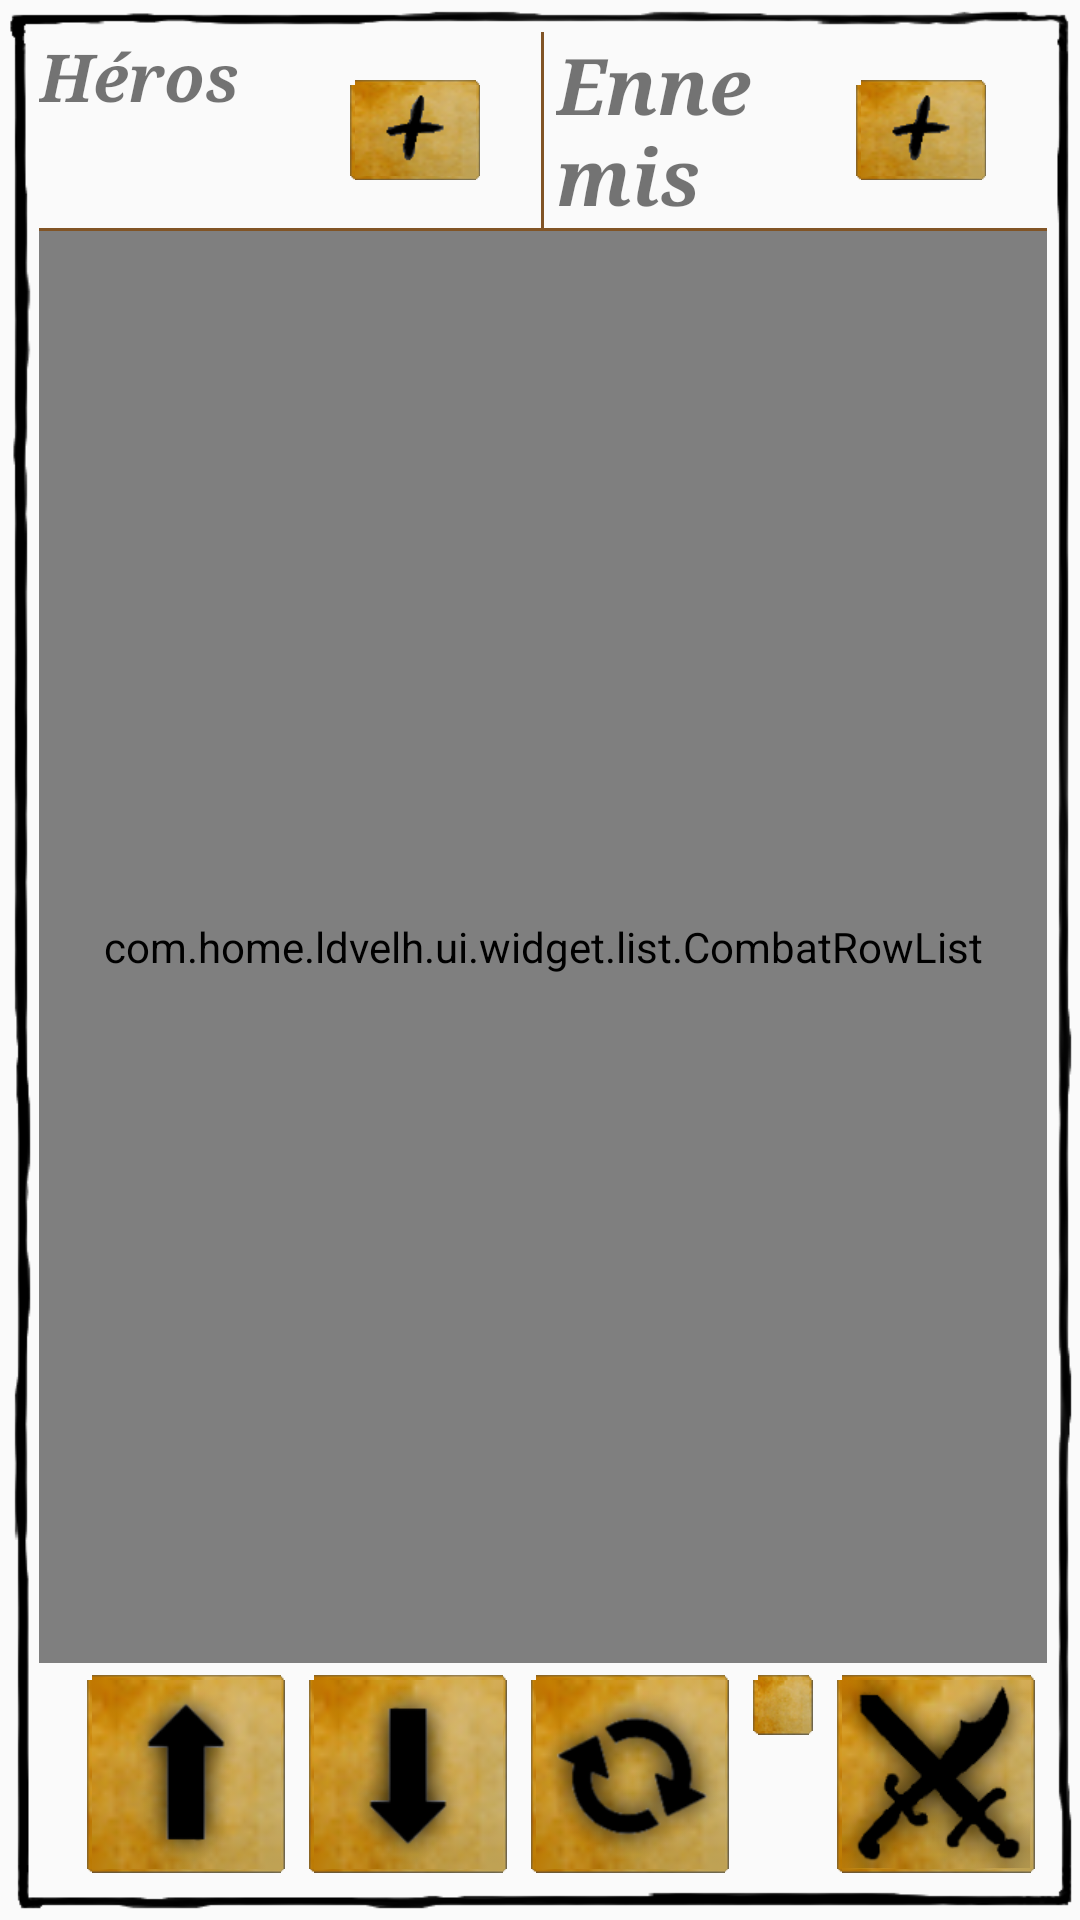

Screen size 1080×1920. Icon name, then its center in pixels as [x,y]:
assault: [936,1774]
down arrow: [408,1774]
plus medium: [415,130], [921,130]
reset: [630,1774]
up arrow: [186,1774]
